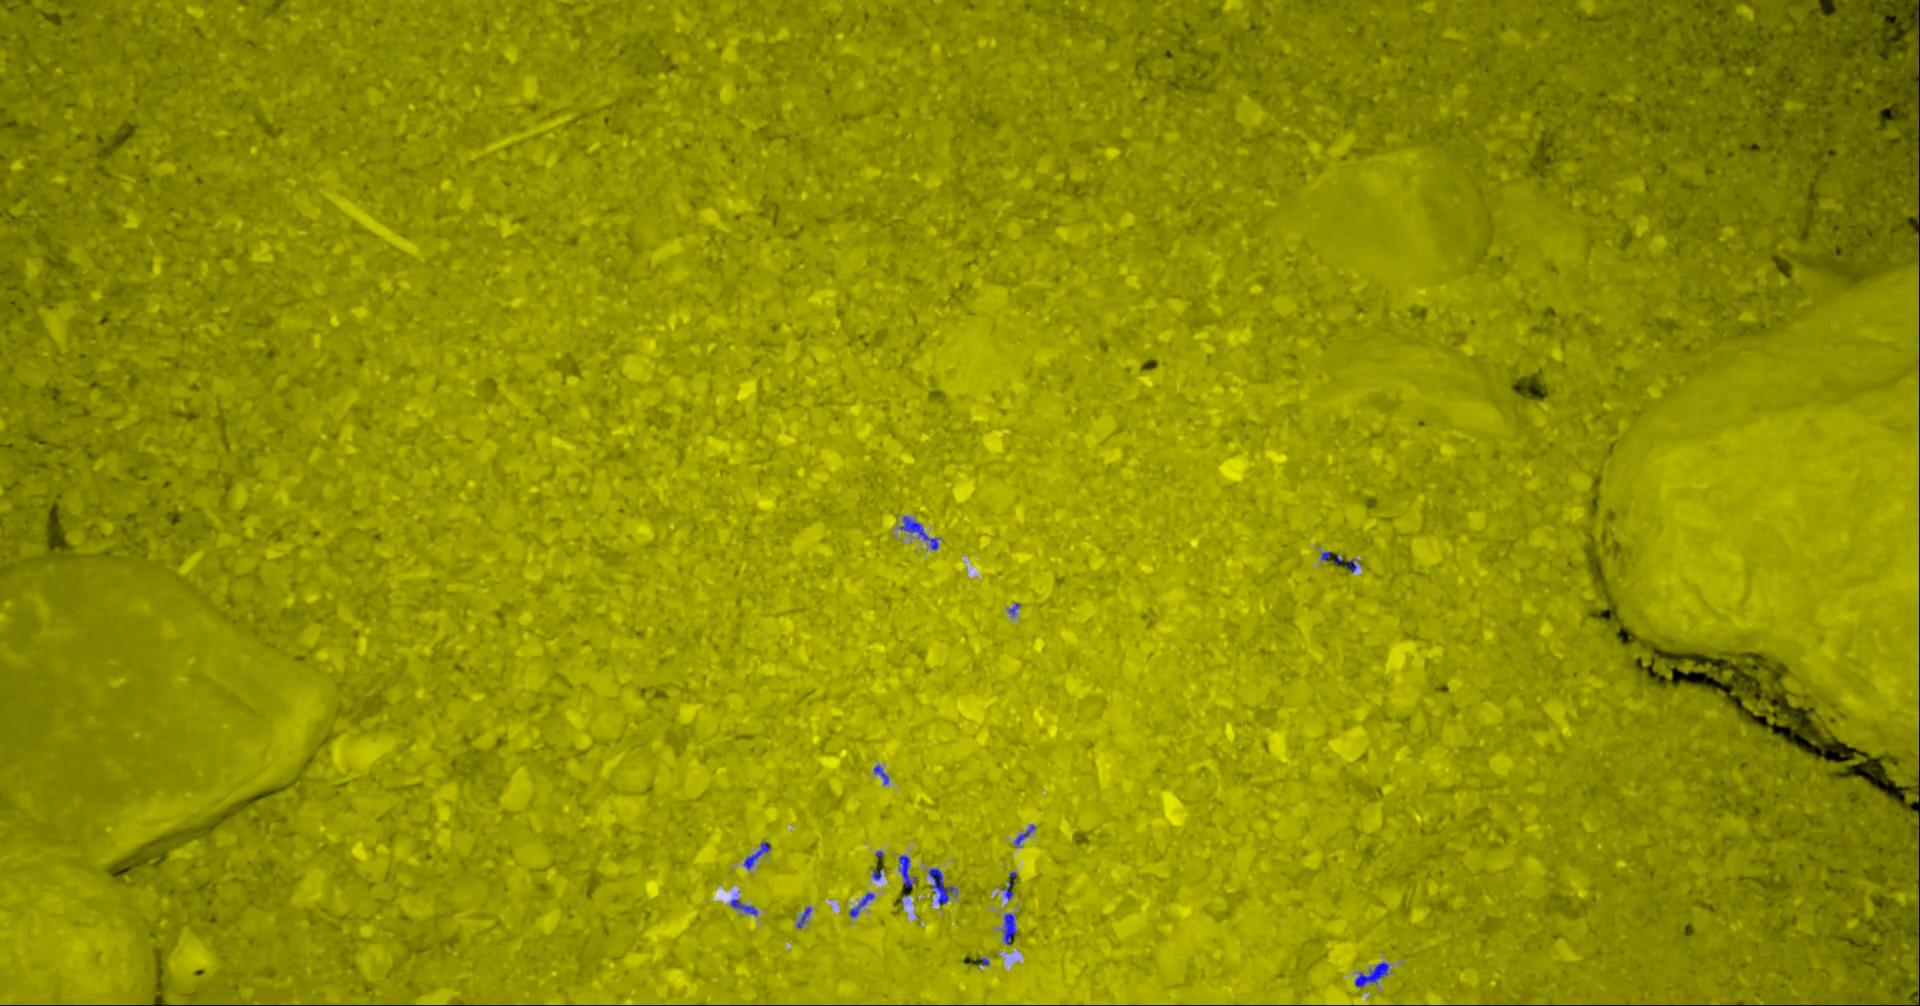ant: (899, 516, 938, 549), (928, 868, 956, 904), (1354, 962, 1388, 987), (743, 841, 770, 868), (850, 892, 874, 917), (898, 855, 912, 888), (730, 899, 757, 915), (1015, 826, 1034, 846), (1002, 873, 1016, 899), (1003, 913, 1015, 945), (796, 906, 810, 929), (872, 763, 888, 784), (1917, 141, 1919, 224)
